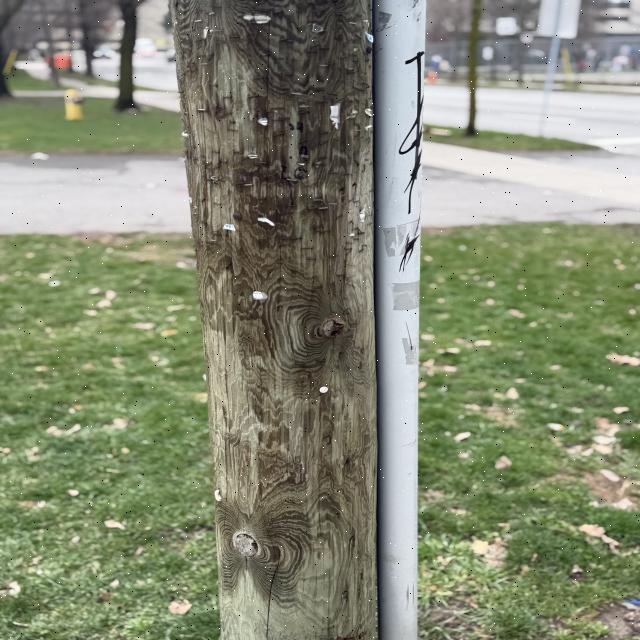Electrical Pole: (163, 2, 377, 635)
